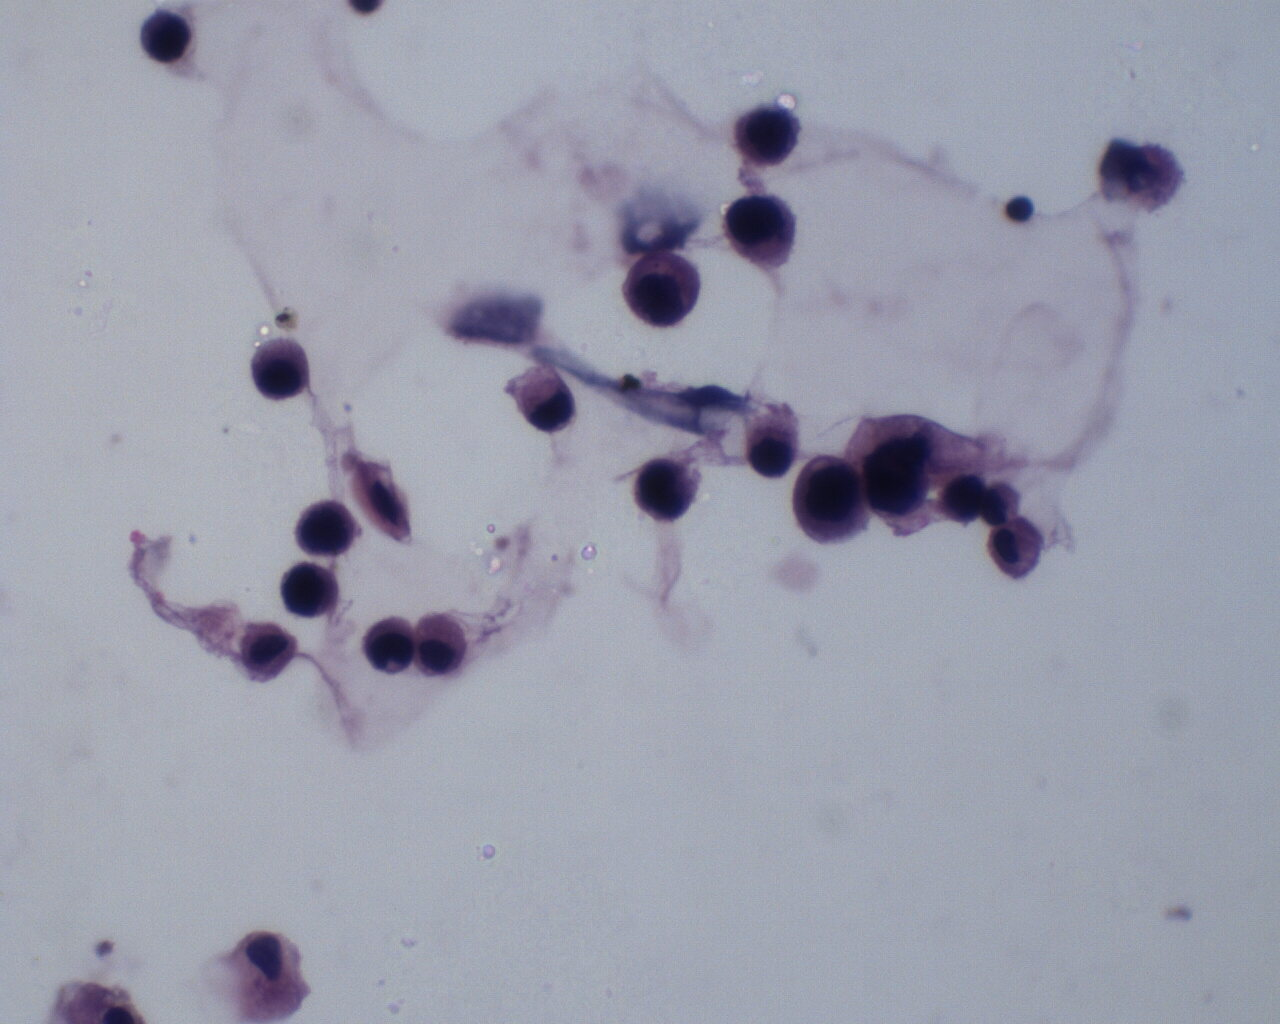ab: (619, 246, 708, 333), (792, 452, 871, 546), (724, 190, 805, 275), (247, 335, 318, 408), (734, 103, 806, 172), (630, 453, 700, 522), (293, 498, 362, 556), (278, 559, 339, 618), (360, 610, 415, 675), (142, 6, 192, 65)
lymph: (1003, 189, 1038, 229)
meso: (986, 516, 1049, 582), (413, 609, 469, 677)
